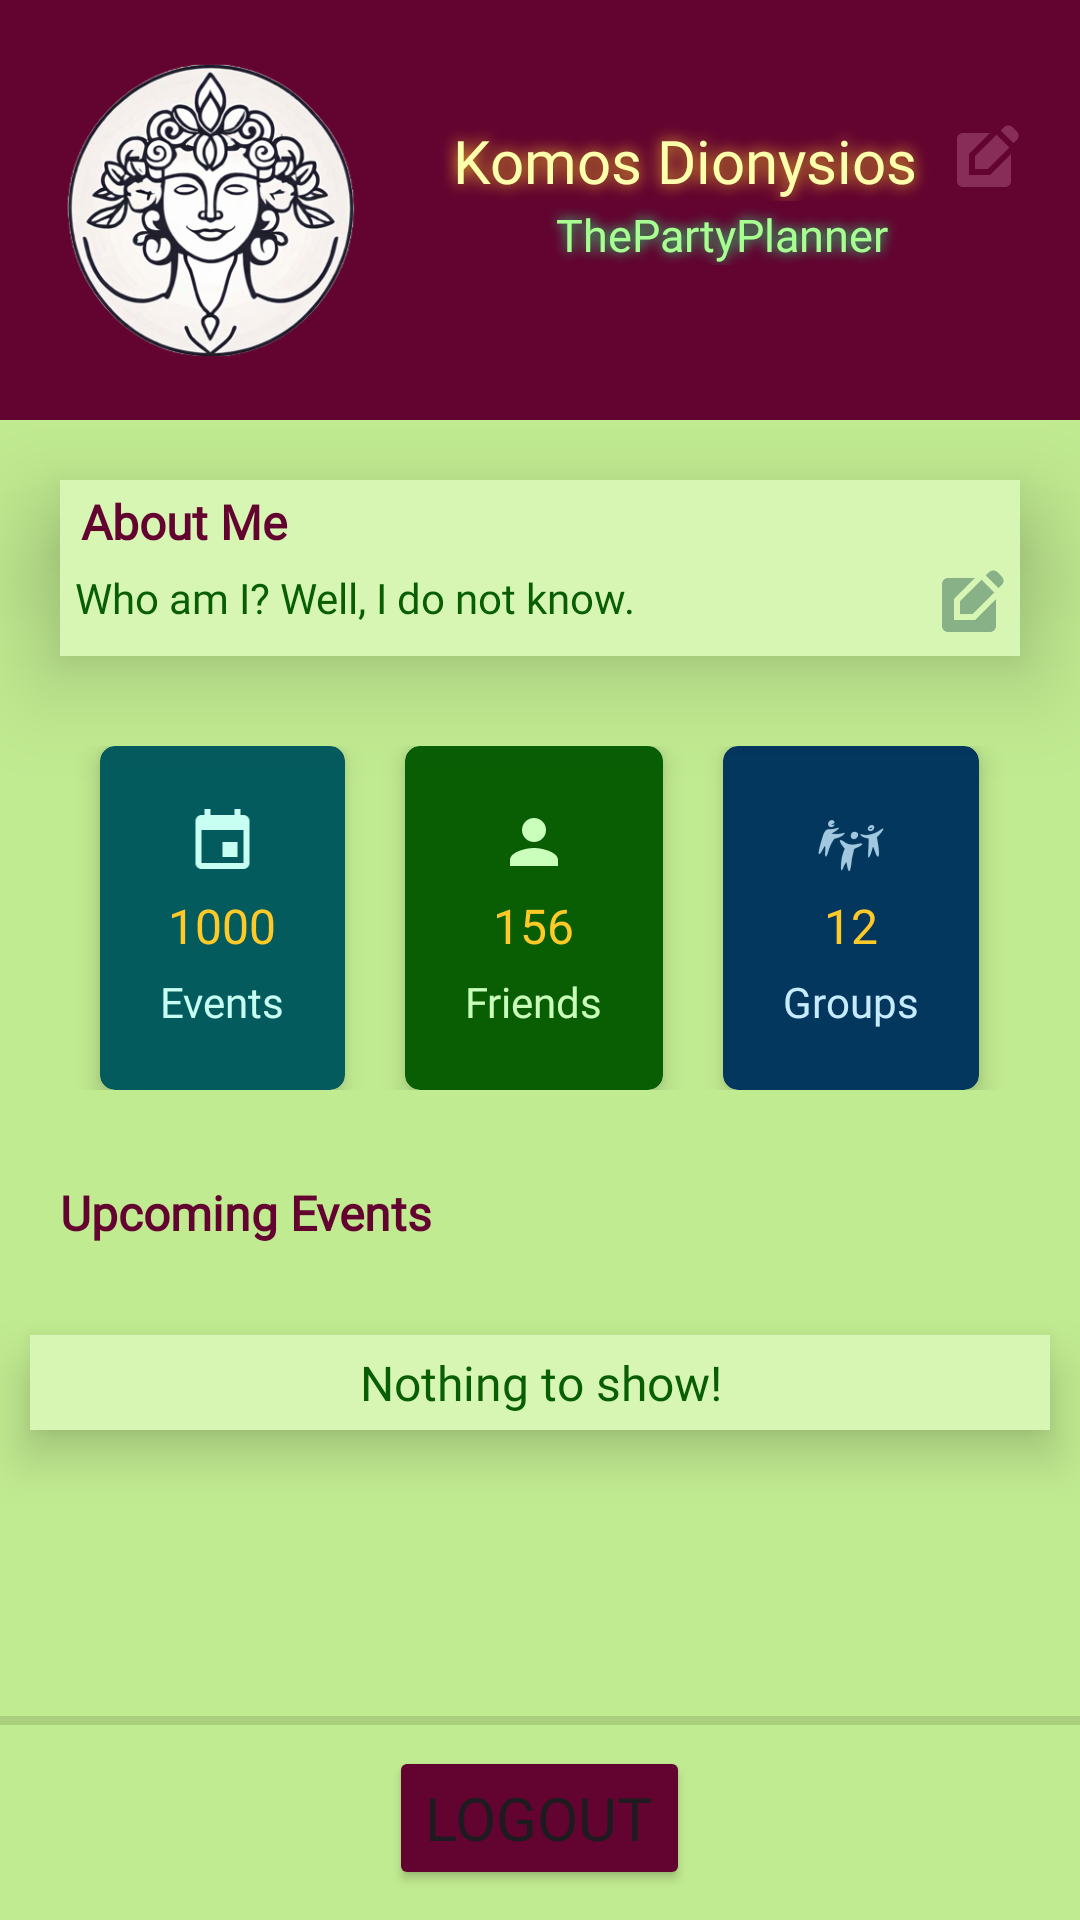

Icons on this 1080*1920 Android screen, each with its box as (x1, y1, x2, y2):
event view: (195, 809, 250, 869)
person: (510, 818, 558, 866)
Profile Picture: (67, 64, 354, 356)
